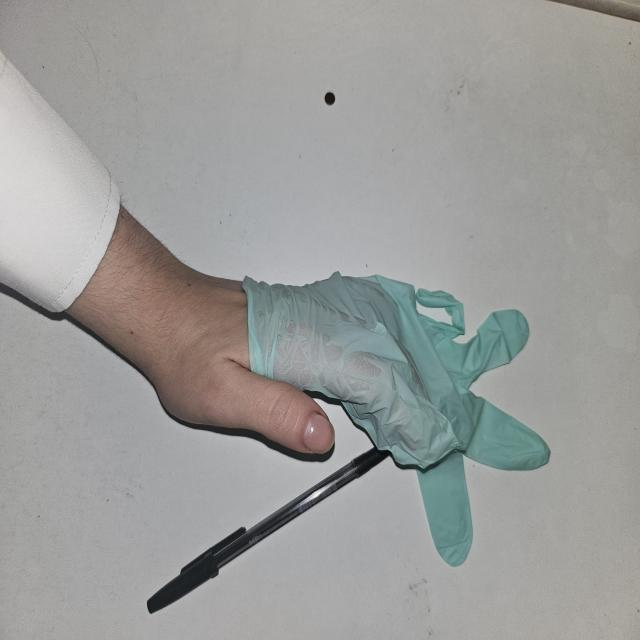glove_partial: (163, 271, 552, 566)
